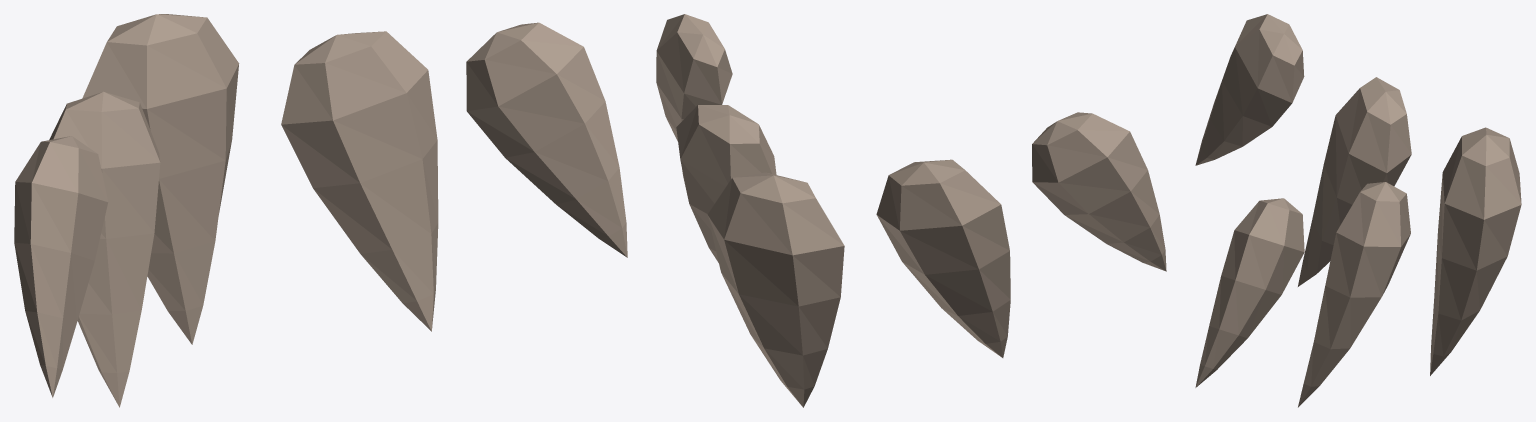
Rendered from fur_chest_ruff.glb.
3 renders of one model, left to right at view 1: azimuth 30°, elevation 25°; view 2: azimuth 150°, elevation 25°; view 3: azimuth 270°, elevation 25°, orthographic. The views are drawn at different scales.
Visible parts, largest first — view 1: fur_chest_ruff; view 2: fur_chest_ruff; view 3: fur_chest_ruff.
Part boxes in pixels (x1=…): fur_chest_ruff: x1=14, y1=14, x2=627, y2=407; fur_chest_ruff: x1=656, y1=14, x2=1166, y2=407; fur_chest_ruff: x1=1195, y1=14, x2=1521, y2=407.
Size of the model in its own units: 0.4192 by 0.231 by 0.2549.
